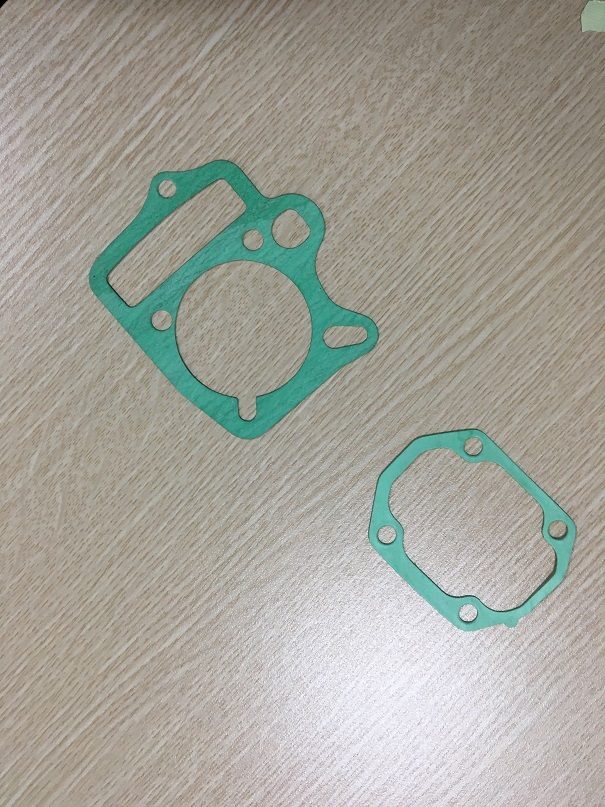type2: (361, 419, 581, 640)
type4: (80, 147, 384, 446)
